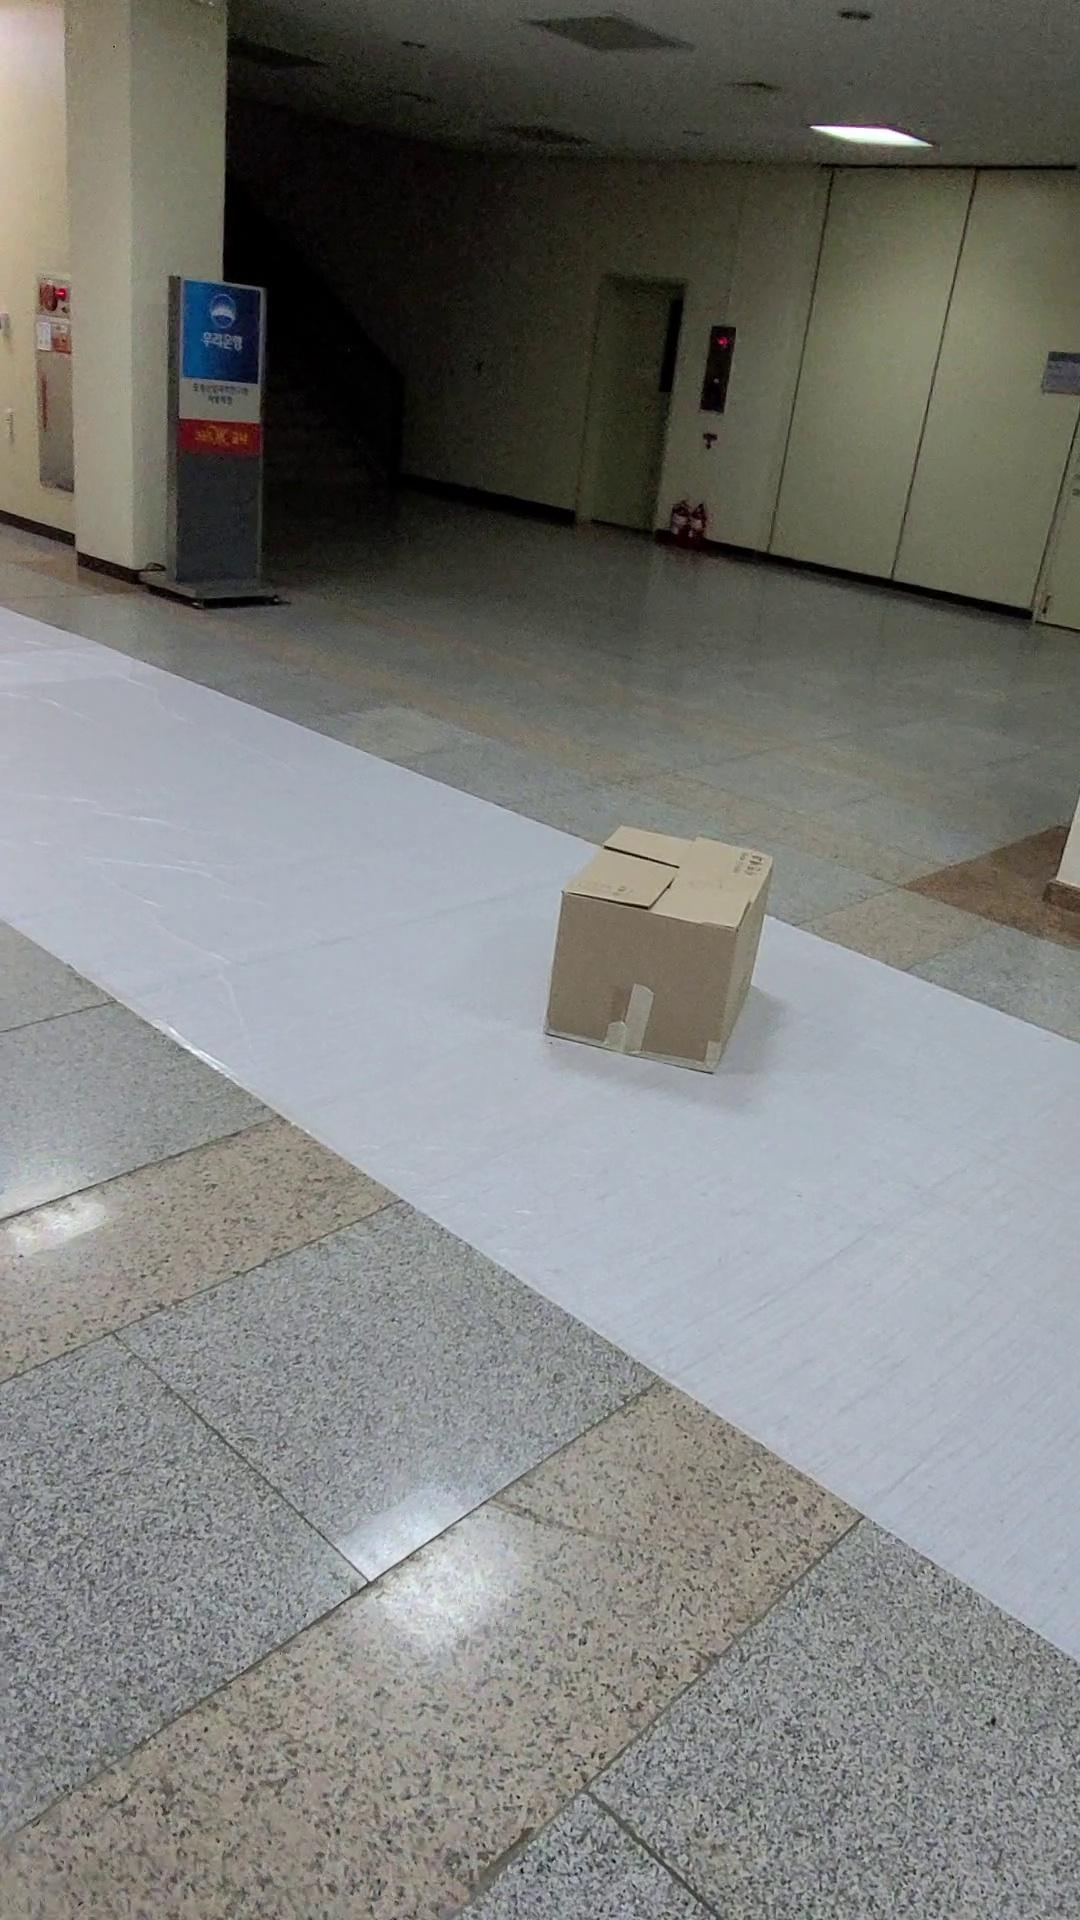Box: (531, 808, 795, 1077)
